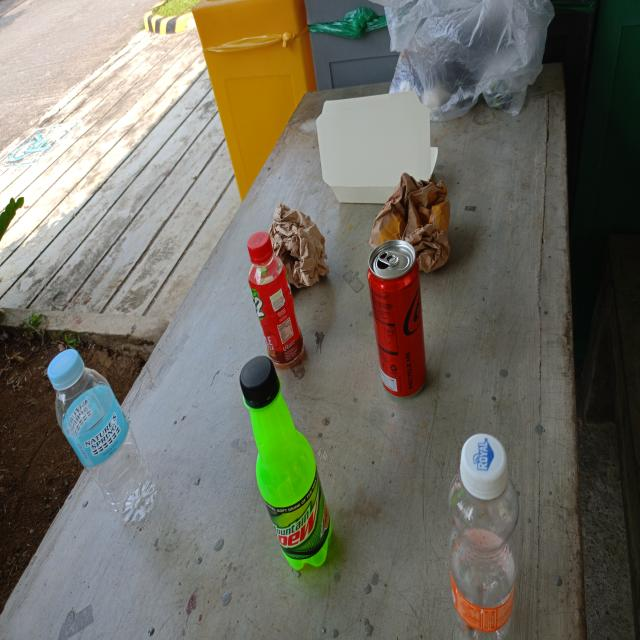Anorganik: (237, 350, 335, 576), (46, 346, 160, 529), (447, 430, 522, 640), (362, 240, 434, 400), (246, 230, 307, 366)
Organik: (315, 86, 441, 206), (367, 172, 453, 275), (267, 202, 332, 291)
